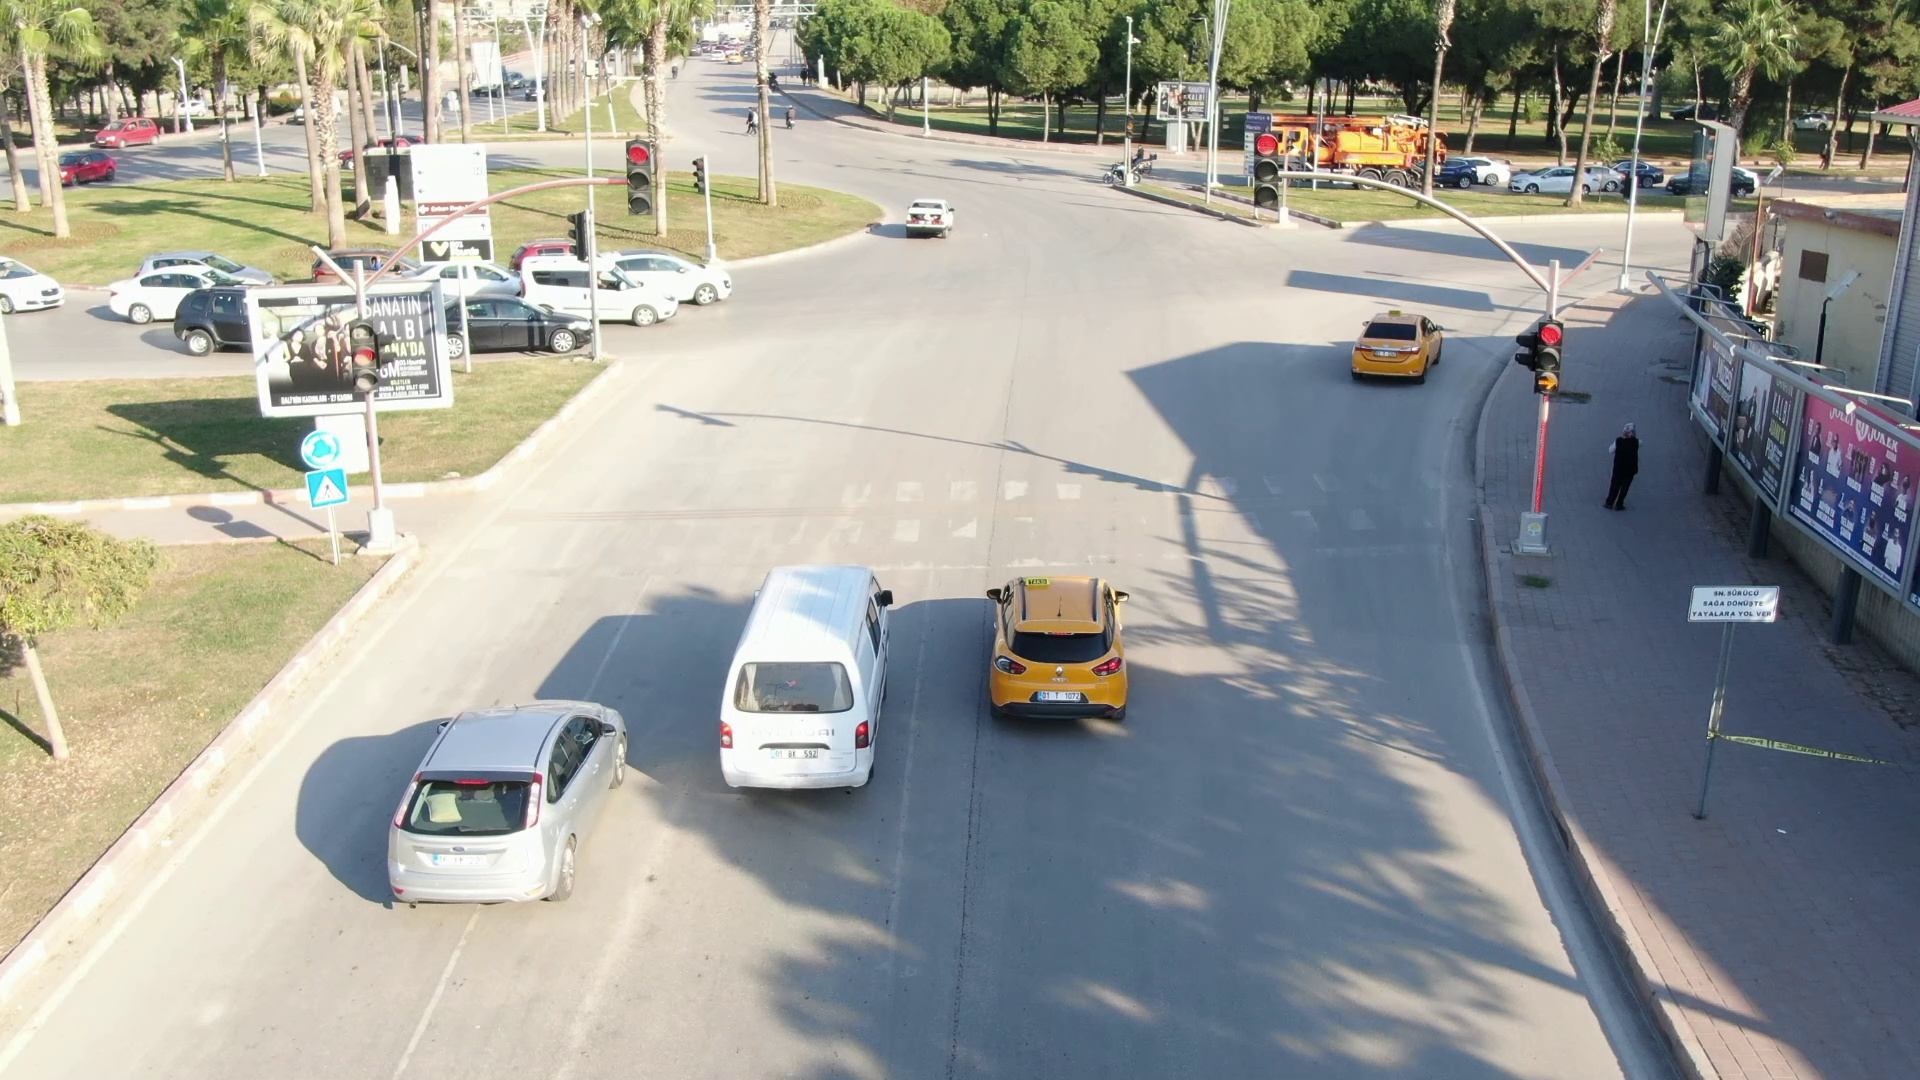car: (370, 706, 635, 900), (714, 561, 896, 794), (980, 568, 1137, 729), (519, 241, 676, 317), (106, 270, 276, 329), (453, 294, 584, 366), (625, 237, 733, 315), (1353, 310, 1439, 386), (165, 296, 255, 359), (412, 265, 519, 300), (902, 198, 953, 235)
person: (1608, 433, 1647, 517)
